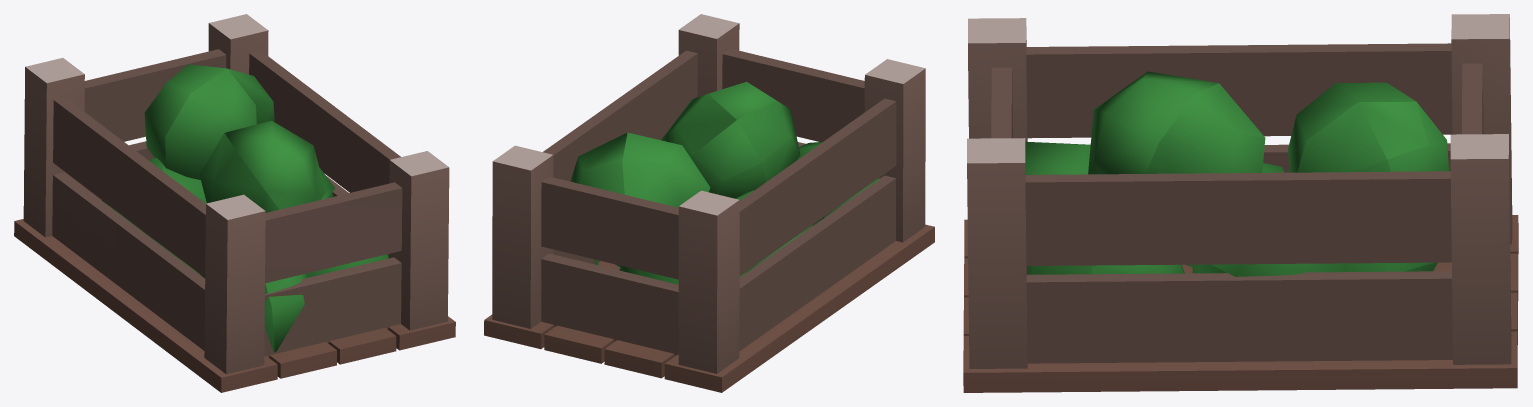
The model's file is case_003.glb.
3 views of the same model, side by side, from view 1: azimuth 30°, elevation 25°; view 2: azimuth 150°, elevation 25°; view 3: azimuth 270°, elevation 25° (orthographic). The views are drawn at different scales.
Parts seen in each view (by area): view 1: case_003; view 2: case_003; view 3: case_003.
Part boxes in pixels (bbox=[...]): case_003: bbox=[14, 14, 455, 392]; case_003: bbox=[484, 14, 934, 392]; case_003: bbox=[963, 14, 1518, 392].
Size of the model in its own units: 0.6567 by 0.5223 by 1.01.
1 material, 1 textured.
